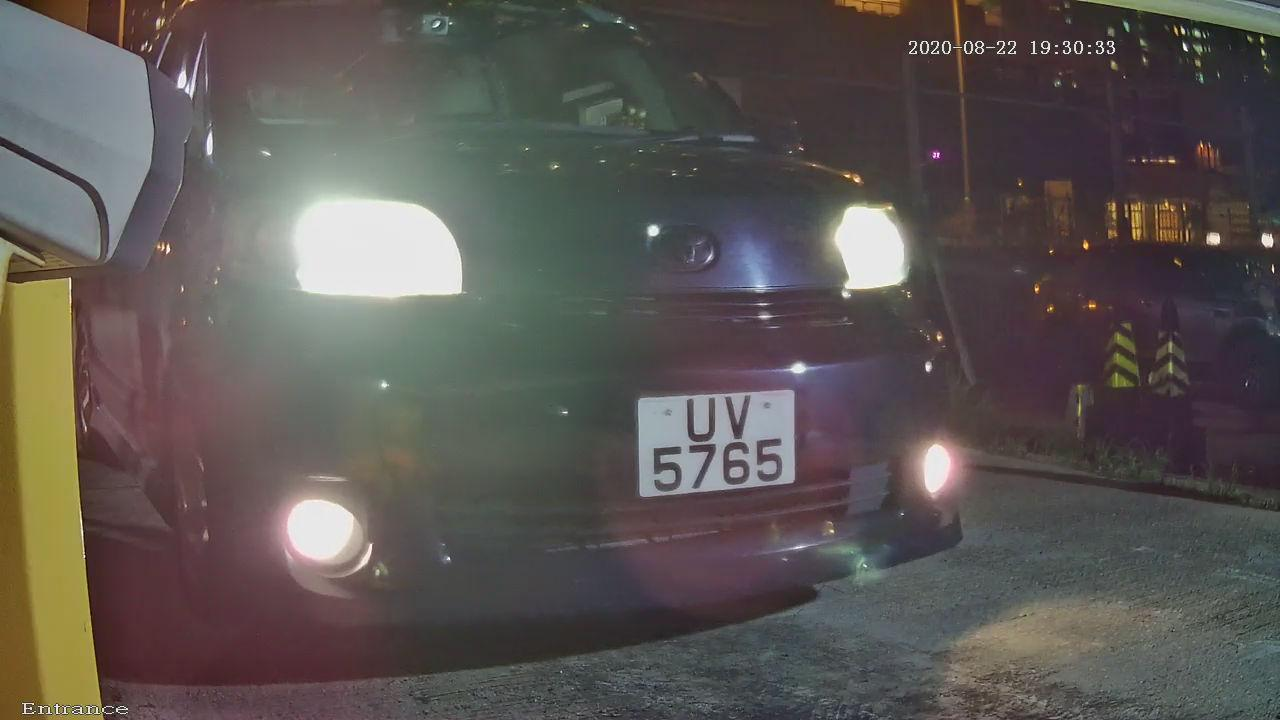Car: (52, 7, 1069, 695)
License Plate: (612, 373, 818, 515)
